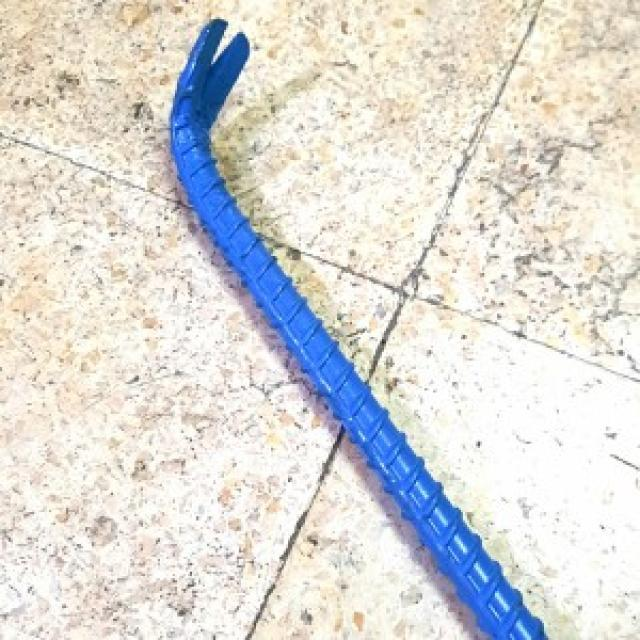Linggis: (153, 8, 559, 640)
